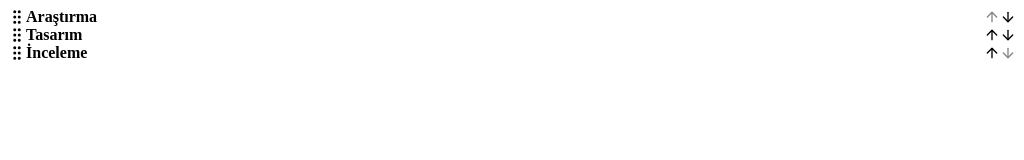
Test case: ReorderableList › reorders with explicit touch-friendly actions
Click the button named "Araştırma: Aşağı taşı".
click(1008, 17)  # box [1000,8,1016,26]
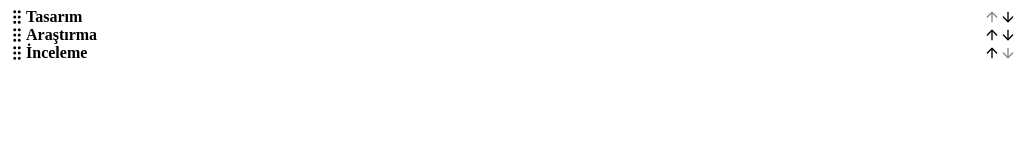
Check: the list items read "Tasarım", "Araştırma", "İnceleme", in this order, box [8,8,1016,26]; [8,26,1016,44]; [8,44,1016,62]
